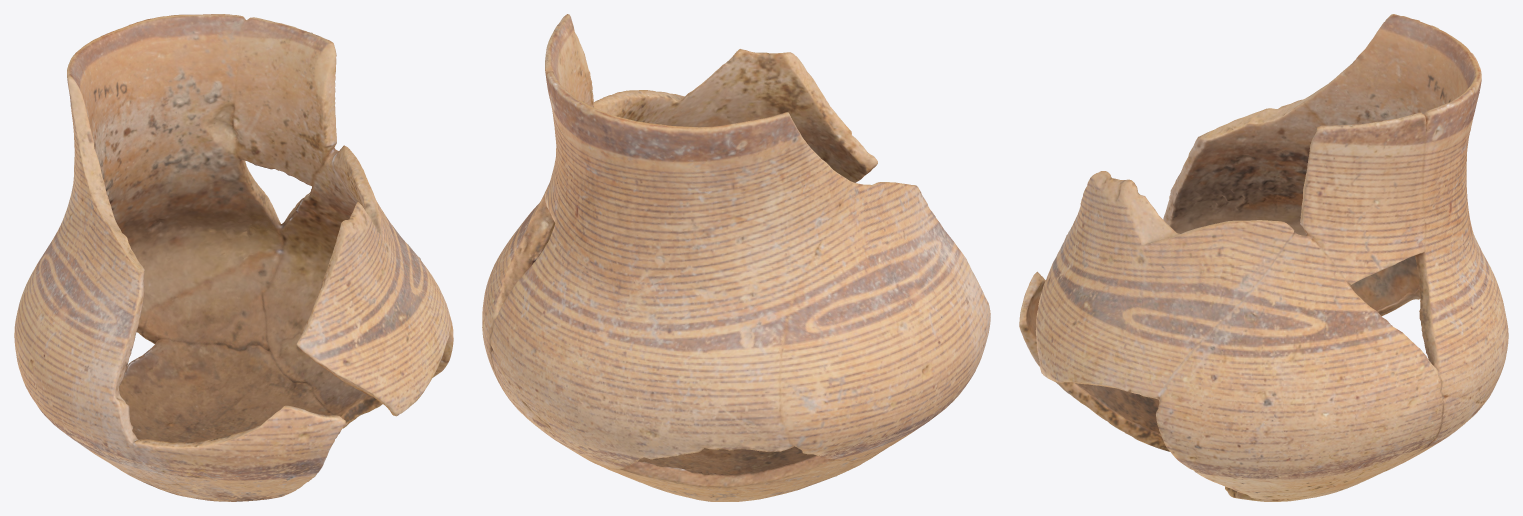
File: item4.glb
3 renders of one model, left to right at view 1: azimuth 30°, elevation 25°; view 2: azimuth 150°, elevation 25°; view 3: azimuth 270°, elevation 25°, orthographic. The views are drawn at different scales.
Parts seen in each view (by area): view 1: Object_2; view 2: Object_2; view 3: Object_2.
Boxes of the visible parts, x1,y1,x2,y2 form: Object_2: [14, 14, 453, 501]; Object_2: [482, 14, 990, 501]; Object_2: [1019, 14, 1508, 501].
Size of the model in its own units: 21.38 by 20.51 by 22.48.
1 material, 1 textured.
